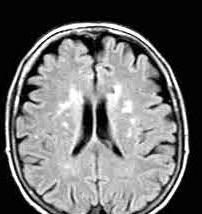Normal_Brain: (15, 1, 193, 214)
